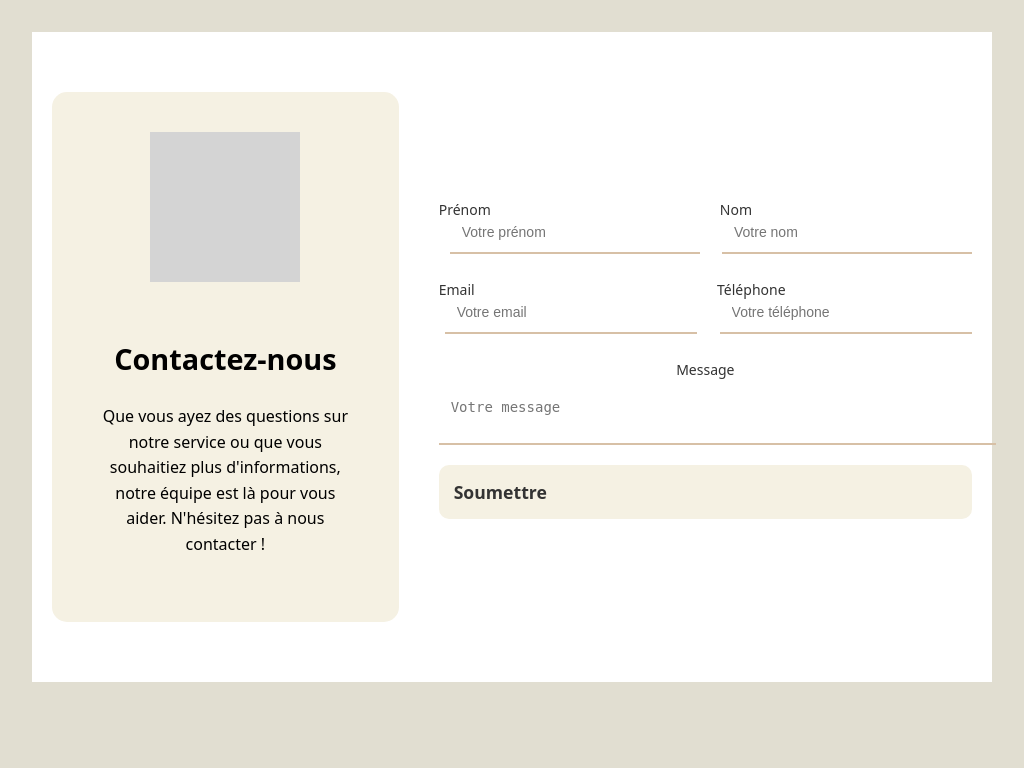
Test: ContactSection › shows an error message if fetch fails
# Fill out the form fields
In the field labelled "Prénom": (575, 233) [450,212,700,254], type "Test"
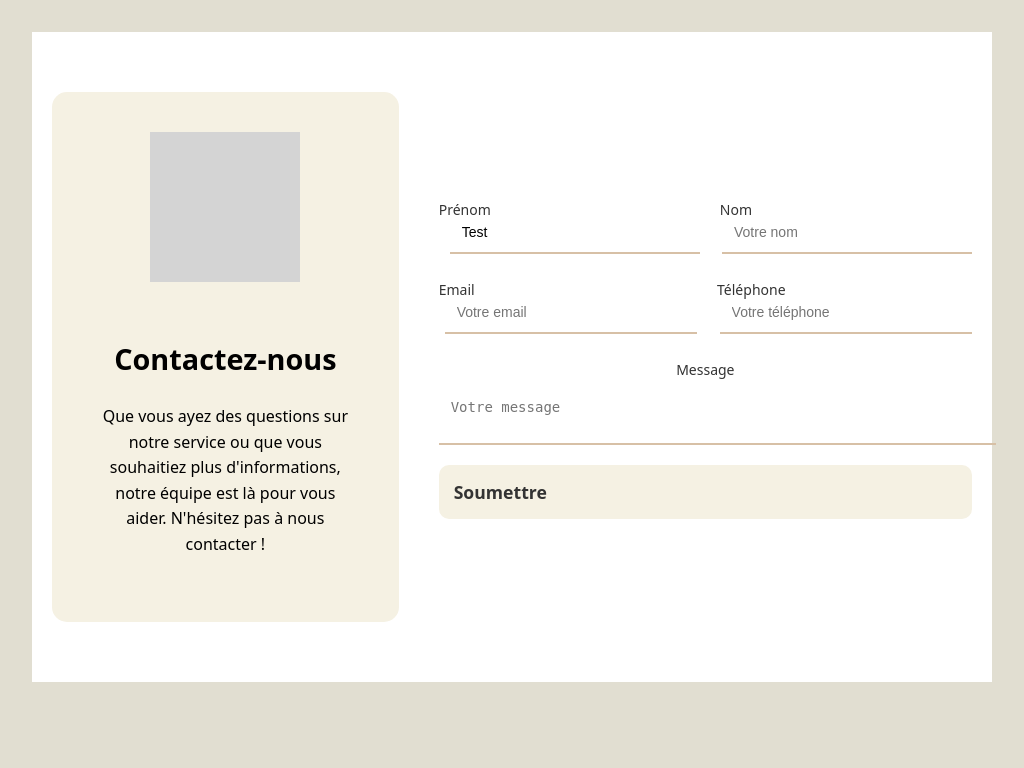
In the field labelled "Nom": (847, 233) [722,212,972,254], type "User"
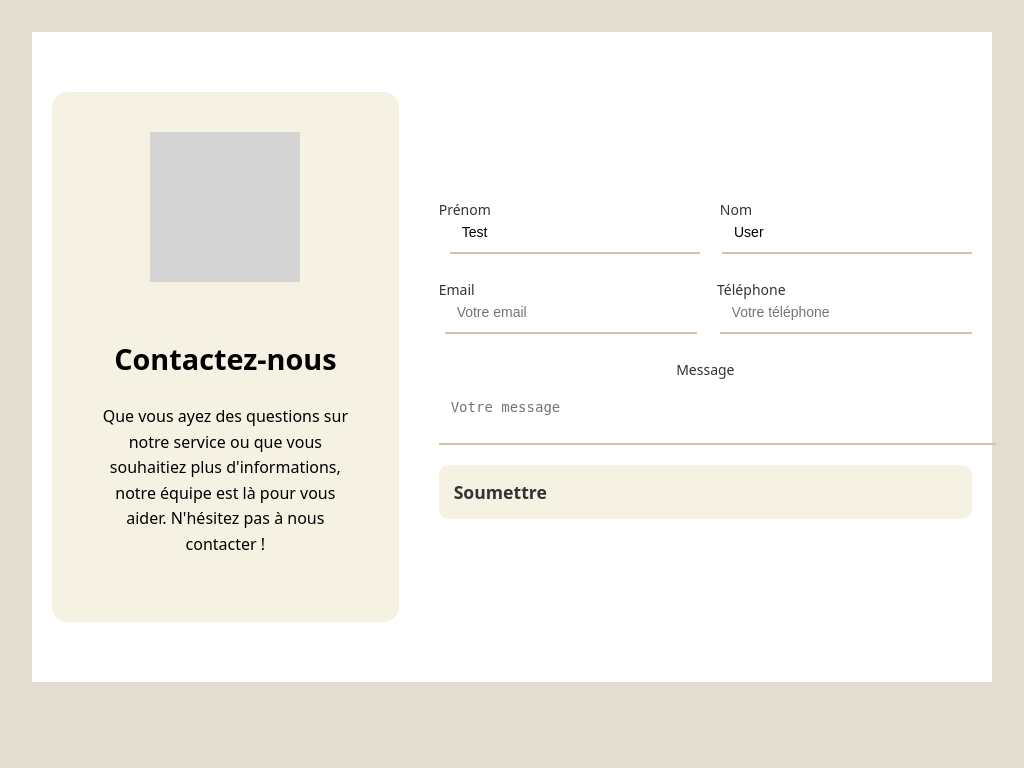
In the field labelled "Email": (571, 313) [445,292,697,334], type "test@email.com"
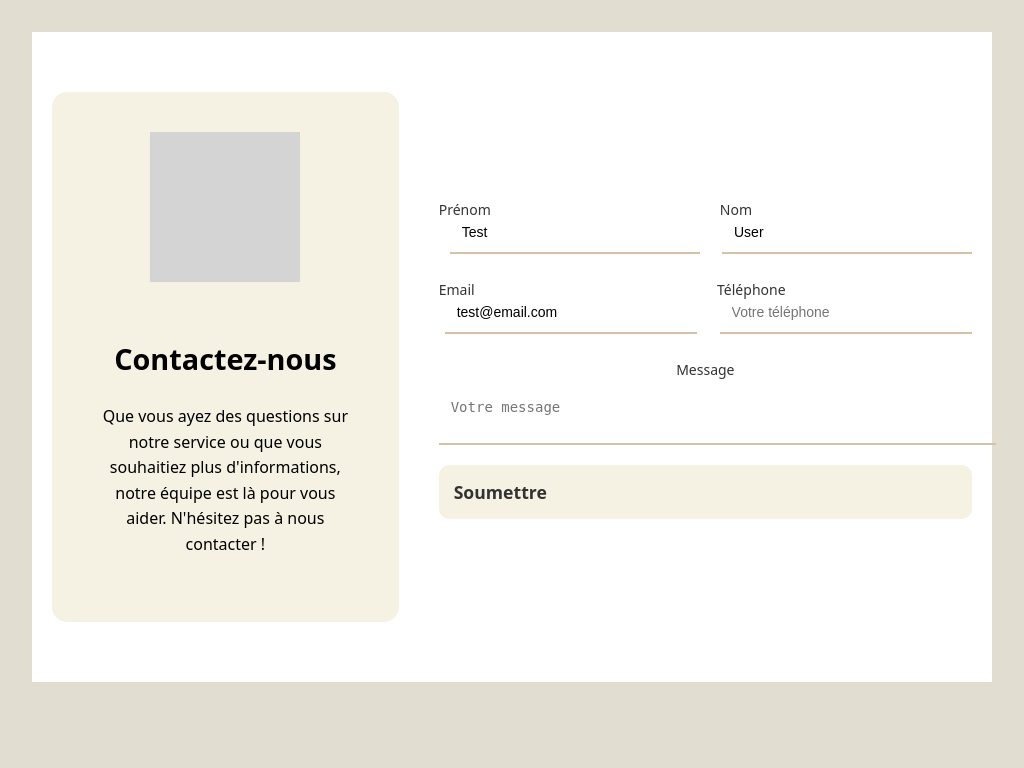
In the field labelled "Téléphone": (846, 313) [720,292,972,334], type "0600000000"
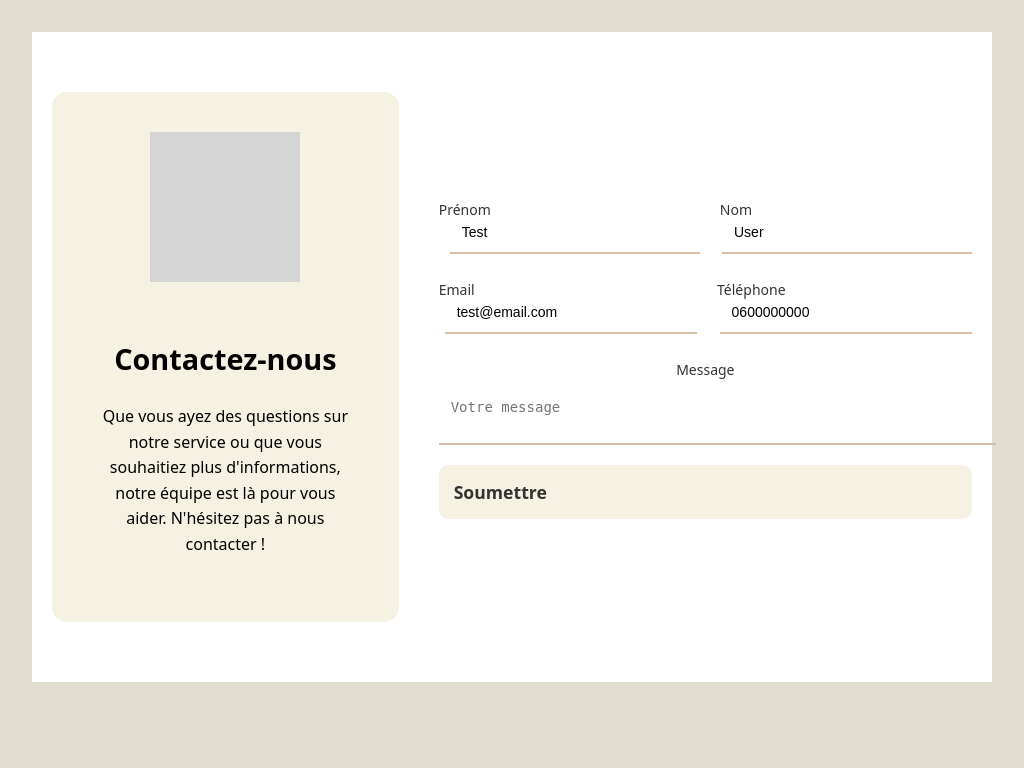
In the text box labelled "Message": (717, 416) [439,387,996,445], type "Hello world!"
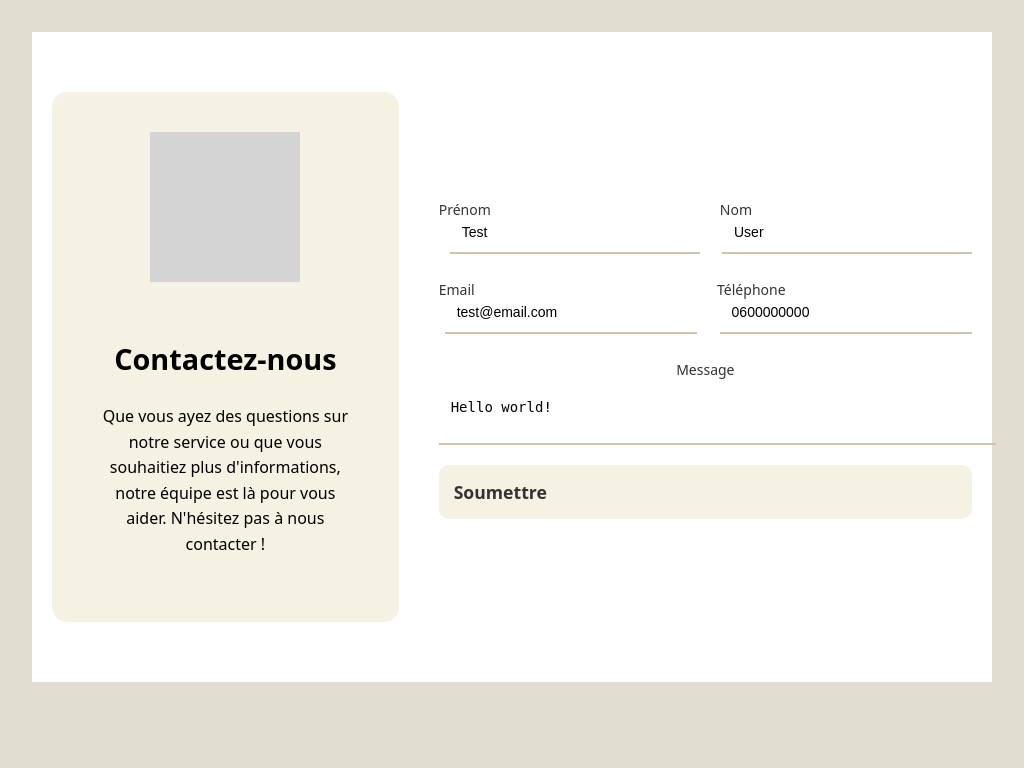
# Submit the form
Click the button "Soumettre": (500, 492) [439,465,972,519]
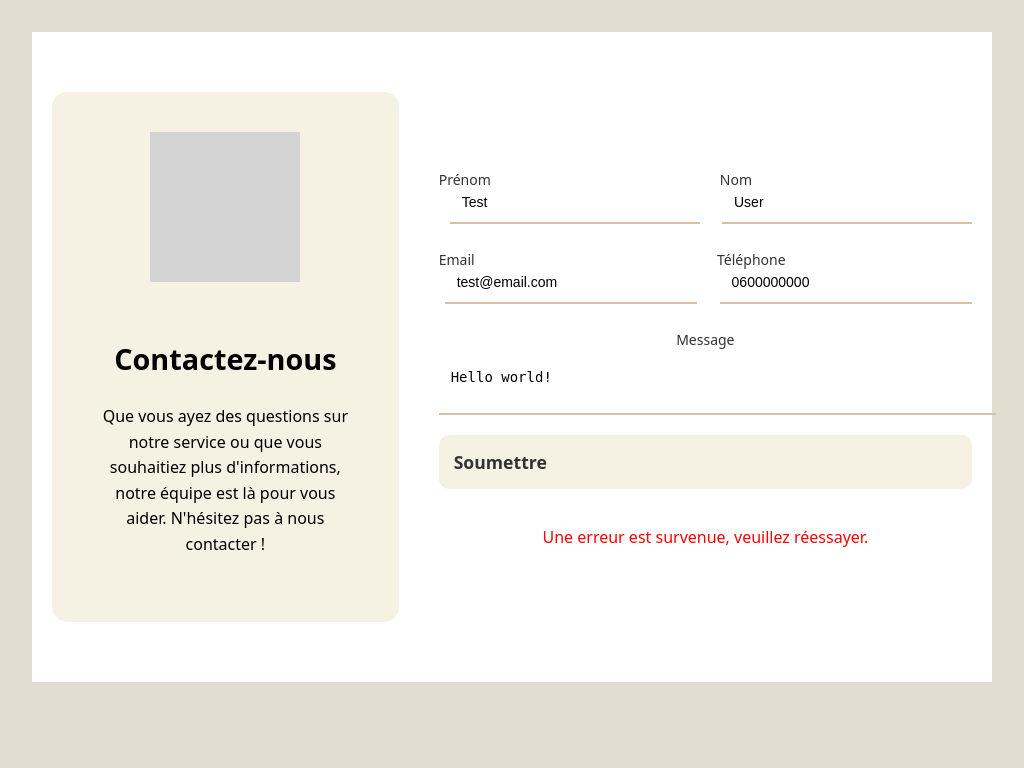
Expected: the text "Une erreur est survenue, veuillez réessayer." is shown, [542,526,868,548]
